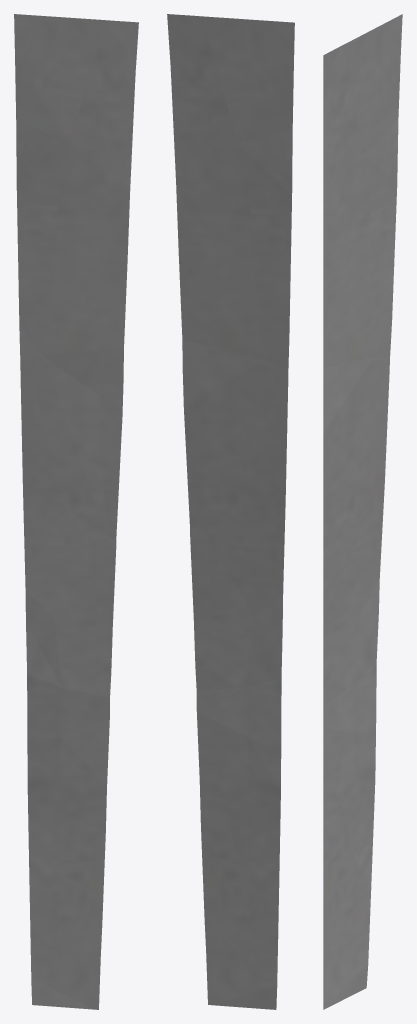
3 views of the same model, side by side, from view 1: azimuth 30°, elevation 25°; view 2: azimuth 210°, elevation 25°; view 3: azimuth 270°, elevation 25° (orthographic). The views are drawn at different scales.
Size of the model in its own units: 0.1524 by 1.67 by 0.1236.
Materials: 1 (1 with a texture image).
